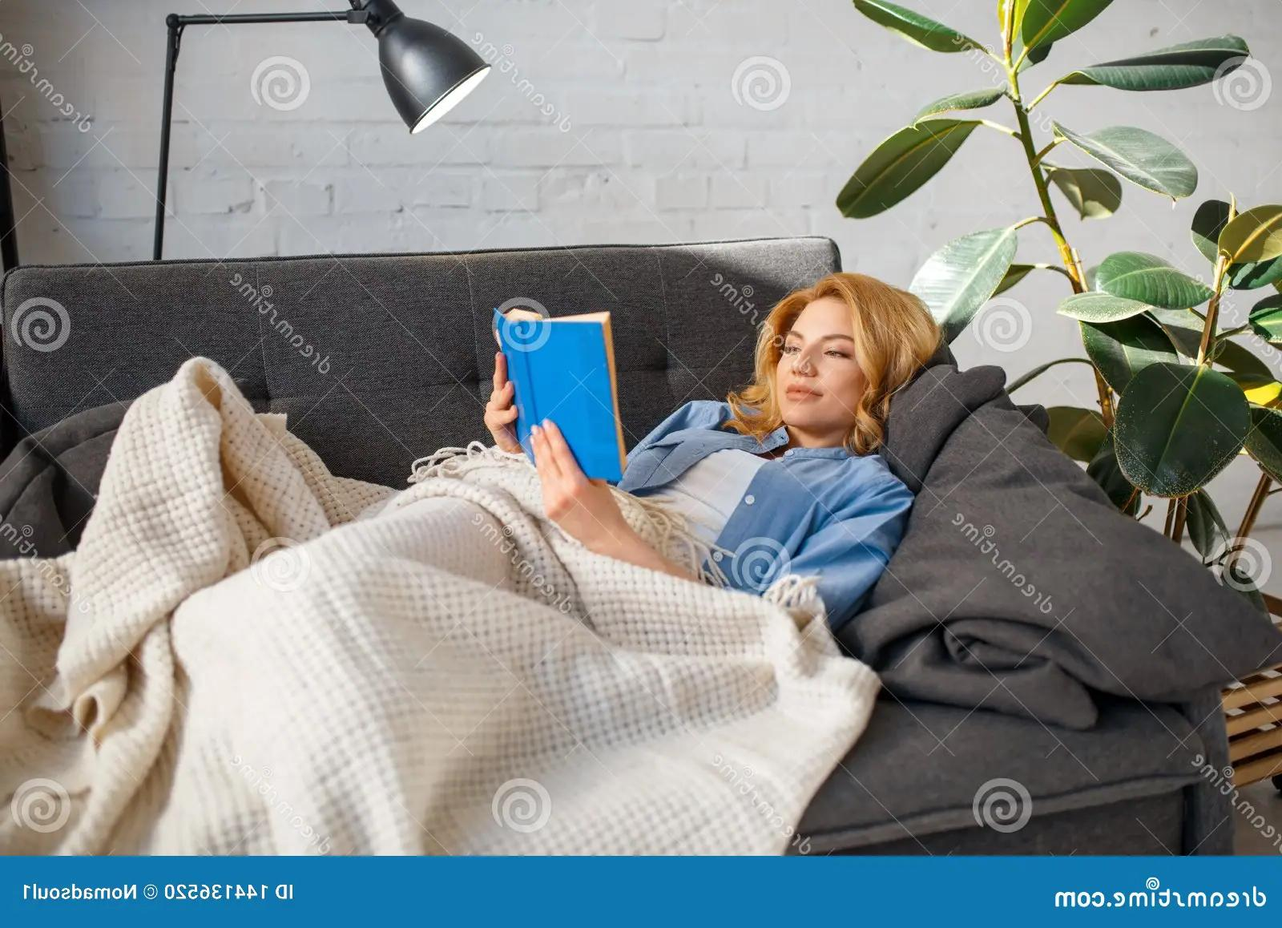blanket: (0, 352, 881, 857)
long sleeve shirt: (610, 396, 919, 640)
